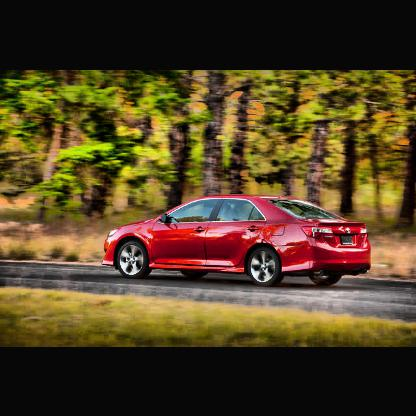Toyota Camry Sedan 2012: (102, 195, 372, 288)
